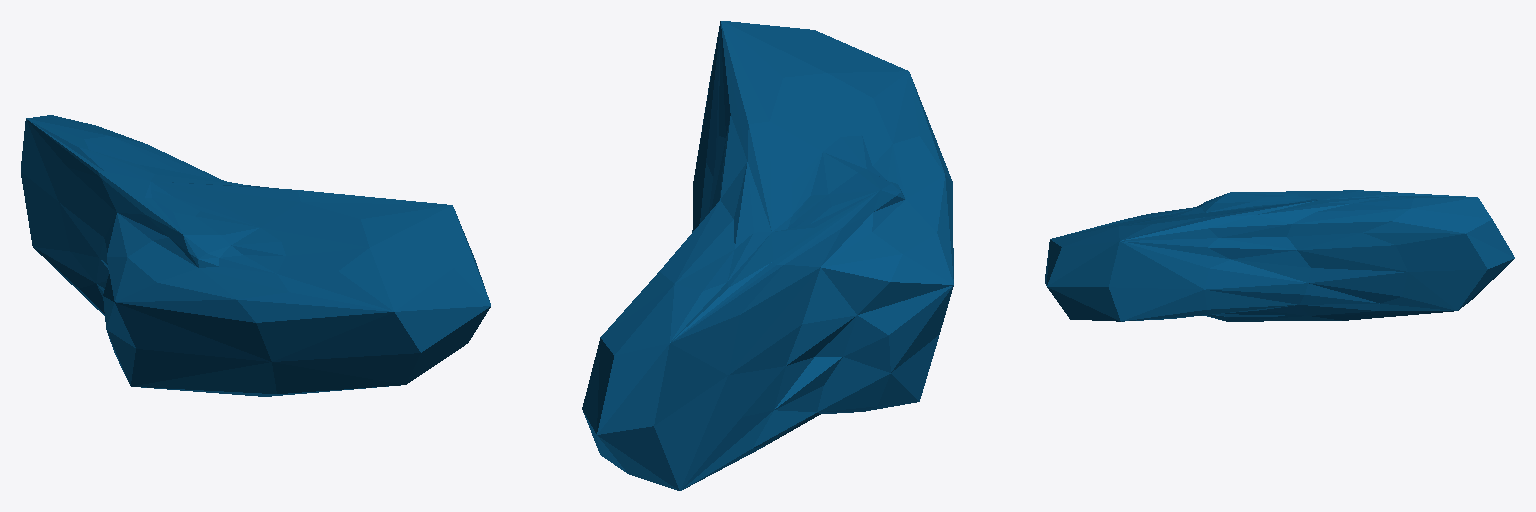
The robot description file, URDF, robot "blob793":

<robot name="blob793">
  <link name="random_obj_793">
    <contact>
      <lateral_friction value="1.0"/>
      <rolling_friction value="0.0"/>
      <inertia_scaling value="3.0"/>
      <contact_cfm value="0.0"/>
      <contact_erp value="1.0"/>
    </contact>
    <inertial>
      <origin rpy="0 0 0" xyz="0 0 0"/>
      <mass value="0.0768"/>
      <inertia ixx="1" ixy="0" ixz="0" iyy="1" iyz="0" izz="0"/>
    </inertial>
    <visual>
      <origin rpy="0 0 0" xyz="0 0 0"/>
      <geometry>
        <mesh filename="793.obj" scale="0.0072 0.0072 0.0072"/>
      </geometry>
      <material name="blockmat">
        <color rgba="0.08 0.38 0.55 1"/>
      </material>
    </visual>
    <collision>
      <origin rpy="0 0 0" xyz="0 0 0"/>
      <geometry>
        <mesh filename="793_coll.obj" scale="0.0072 0.0072 0.0072"/>
      </geometry>
    </collision>
  </link>
</robot>

--- Render facts (derived) ---
3 views of the same robot in one strip: view 1: azimuth 30°, elevation 25°; view 2: azimuth 150°, elevation 25°; view 3: azimuth 270°, elevation 25° (orthographic).
Robot: blob793 — 1 links, 0 joints (none); root link random_obj_793; default pose: all joints at 0.
Visible links, largest first — view 1: random_obj_793; view 2: random_obj_793; view 3: random_obj_793.
Boxes of the visible links, x1,y1,x2,y2 form: random_obj_793: (21,115,490,396); random_obj_793: (582,21,953,490); random_obj_793: (1045,190,1514,321).
Size in the robot's own frame: 0.0666 by 0.128 by 0.0422 metres.
Meshes: 1 distinct files referenced, 1 mesh visuals loaded (1 OBJ).
